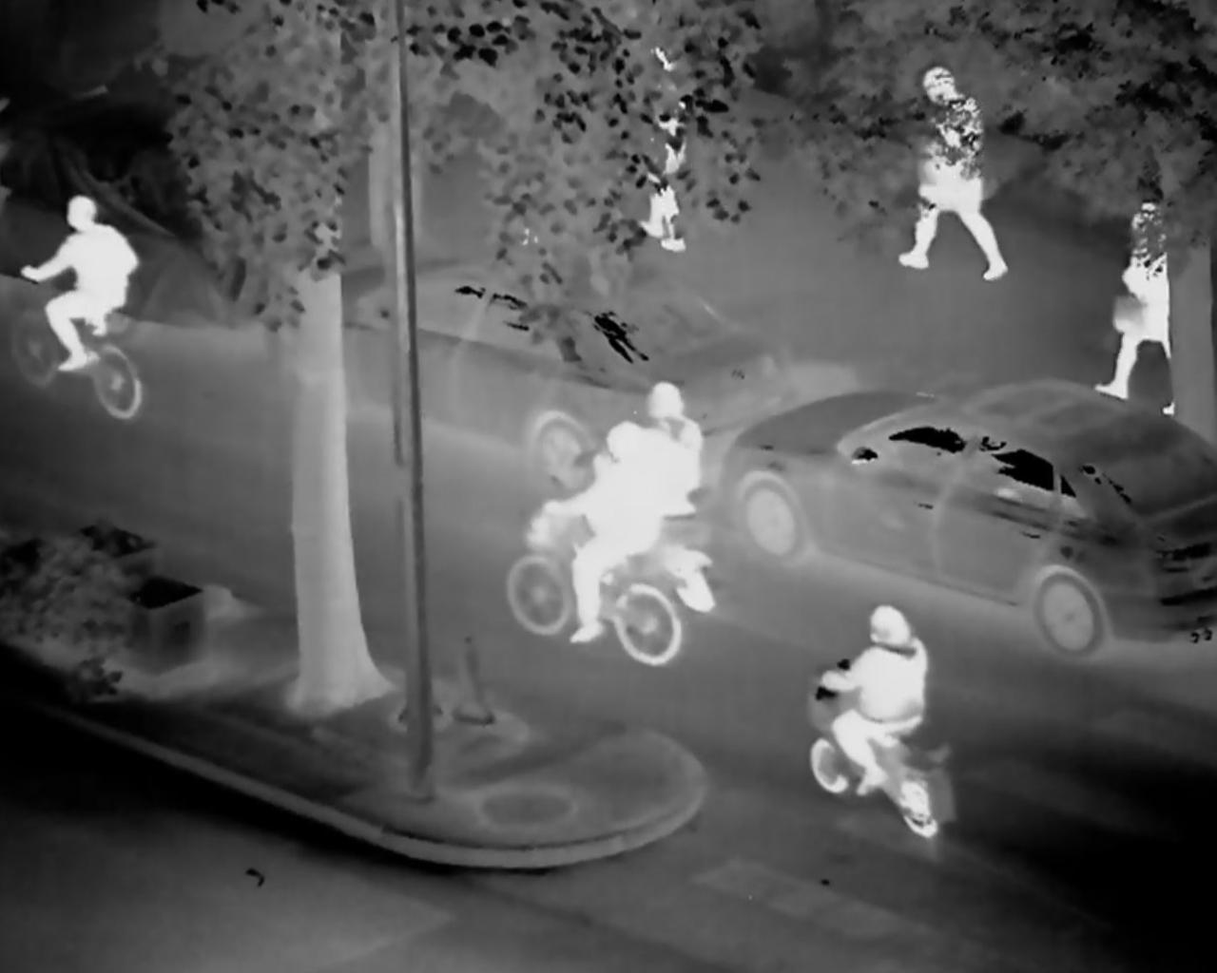person: (495, 421, 698, 673), (884, 62, 1020, 282), (825, 601, 933, 800), (15, 195, 136, 372), (1091, 196, 1191, 407), (609, 41, 693, 254), (605, 377, 703, 526)
